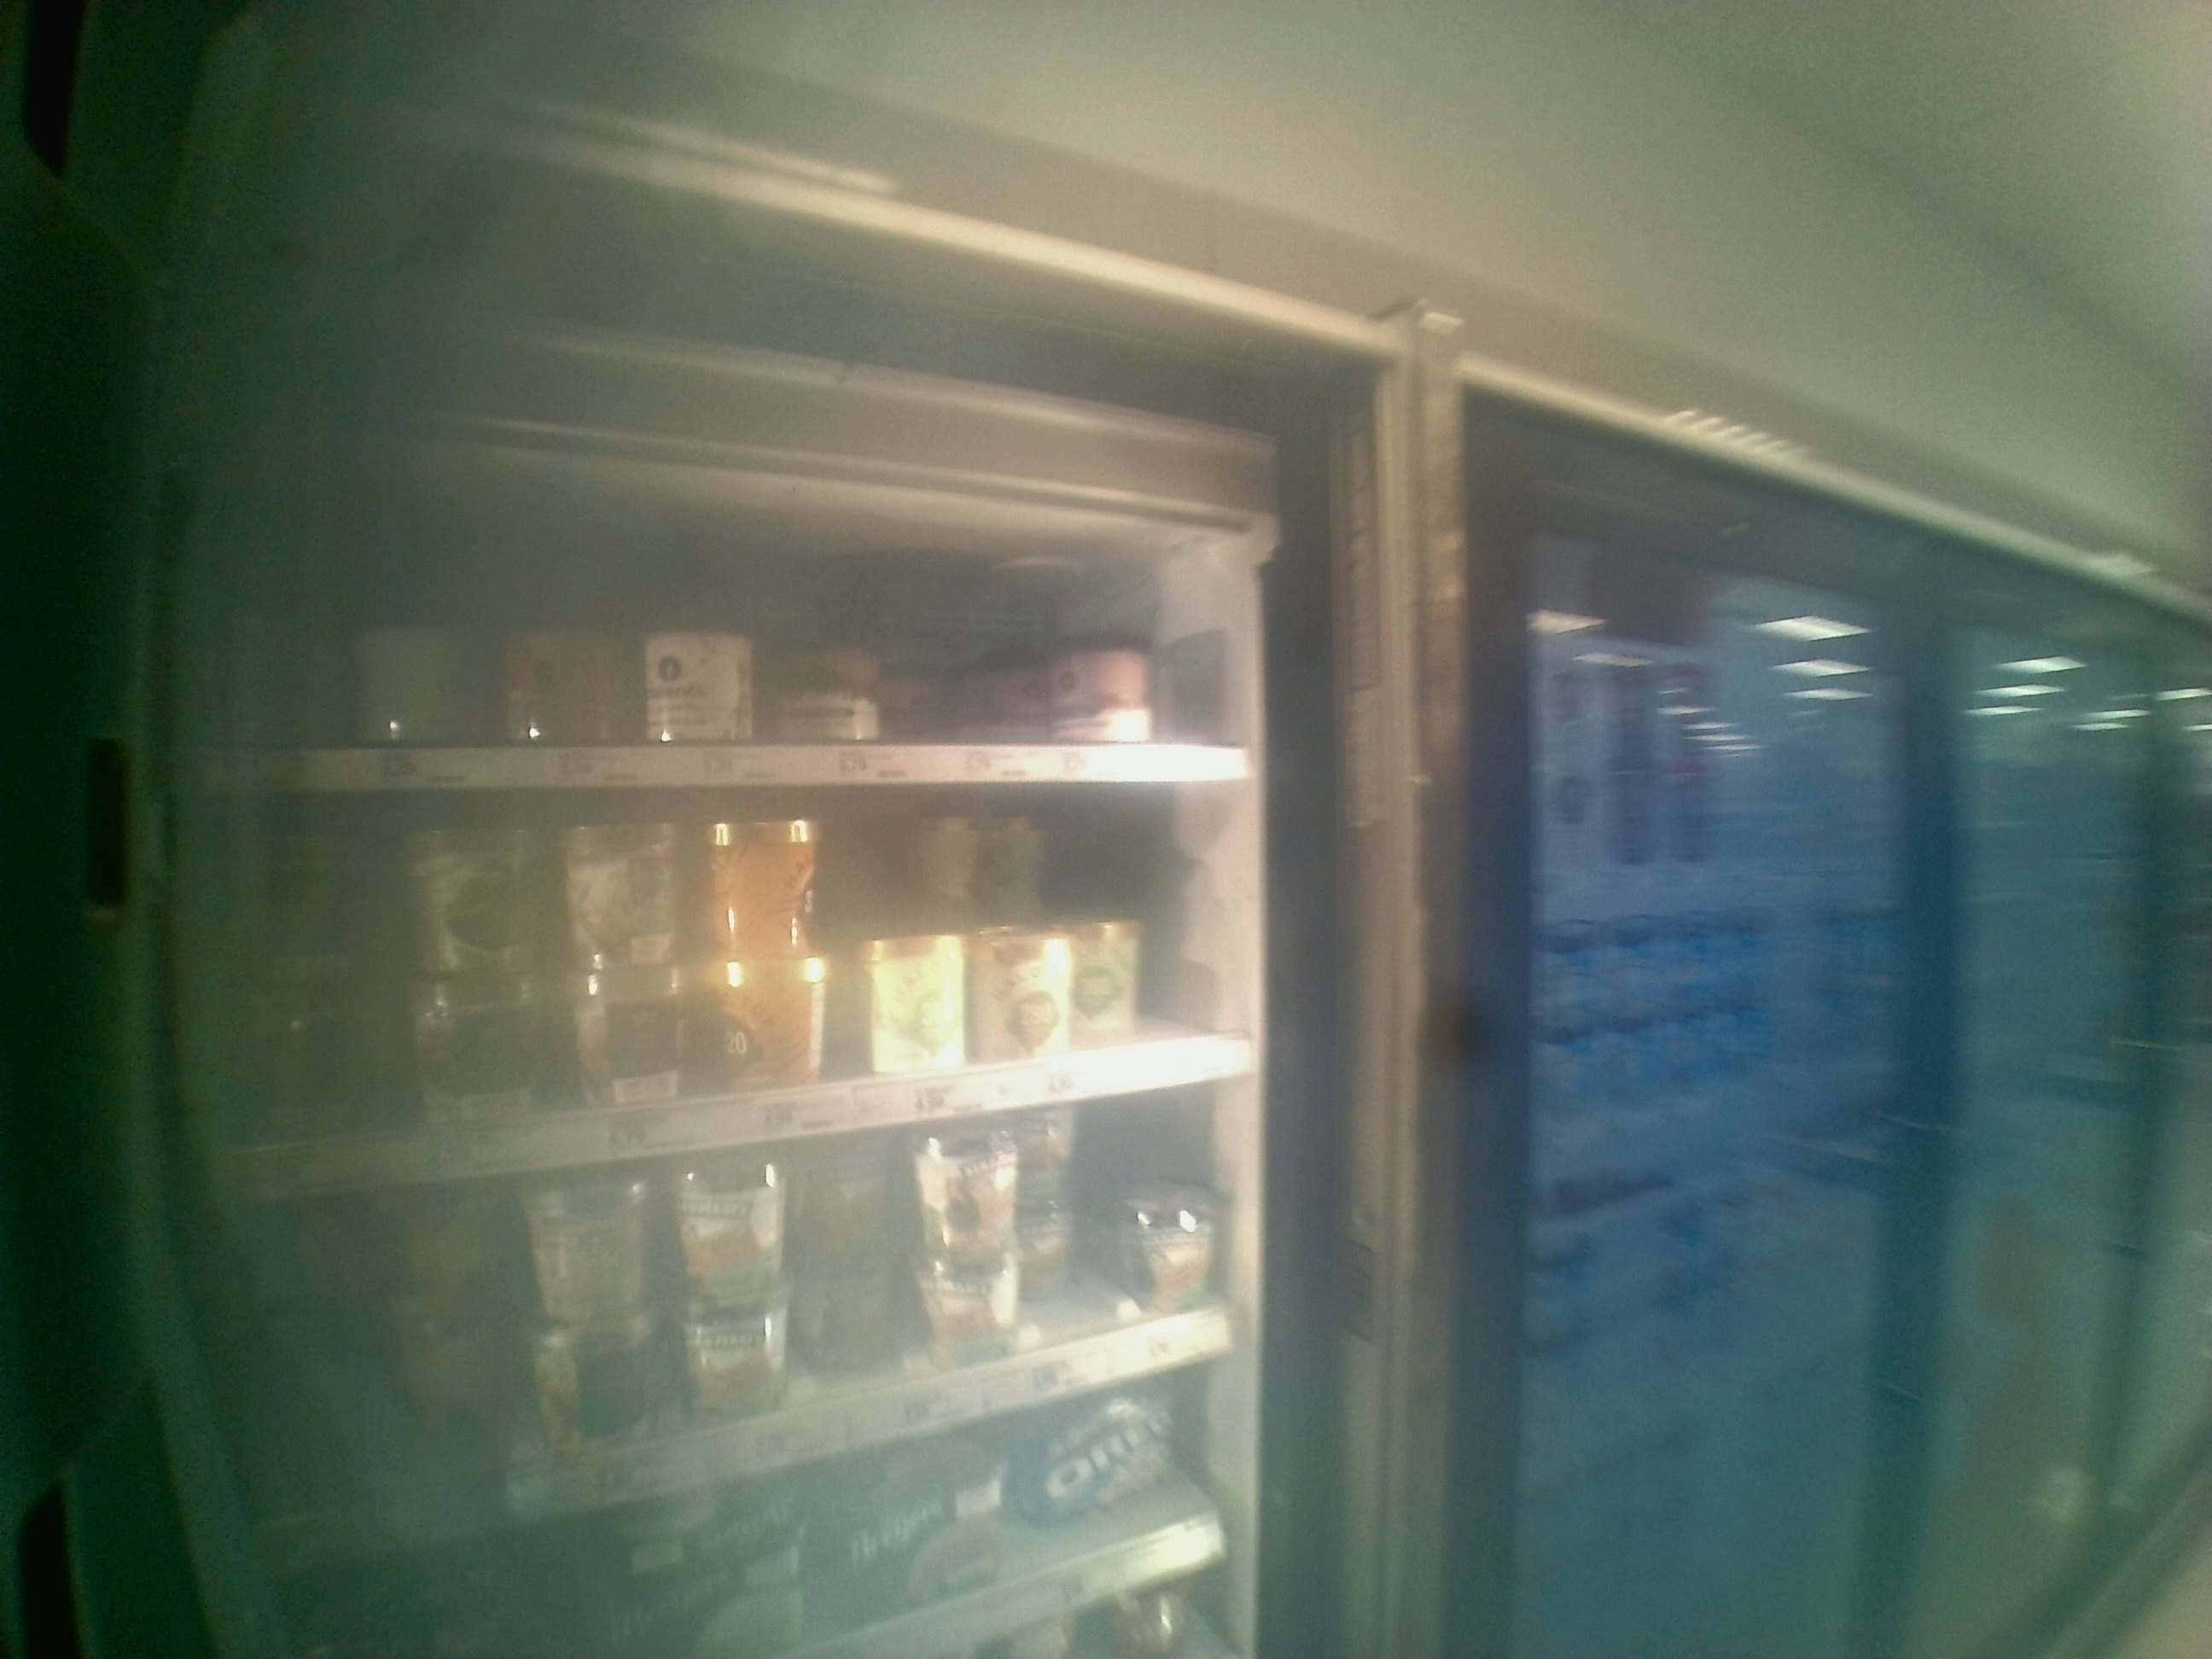shelf: (195, 782, 1273, 1225), (200, 425, 1270, 782)
